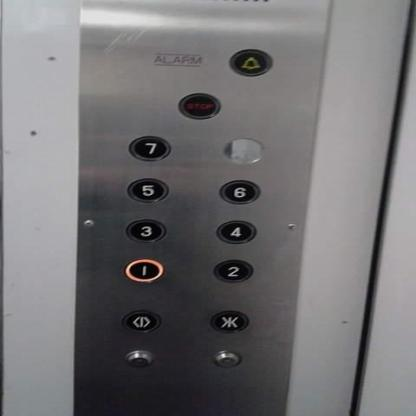1: (123, 258, 163, 282)
2: (211, 258, 254, 283)
3: (123, 218, 166, 244)
4: (214, 219, 257, 245)
5: (126, 177, 169, 203)
6: (217, 178, 261, 204)
7: (126, 134, 172, 162)
alarm: (228, 47, 273, 77)
close: (208, 309, 249, 334)
indicator: (123, 350, 155, 370), (210, 350, 242, 370)
open: (122, 310, 162, 334)
stop: (176, 90, 222, 119)
